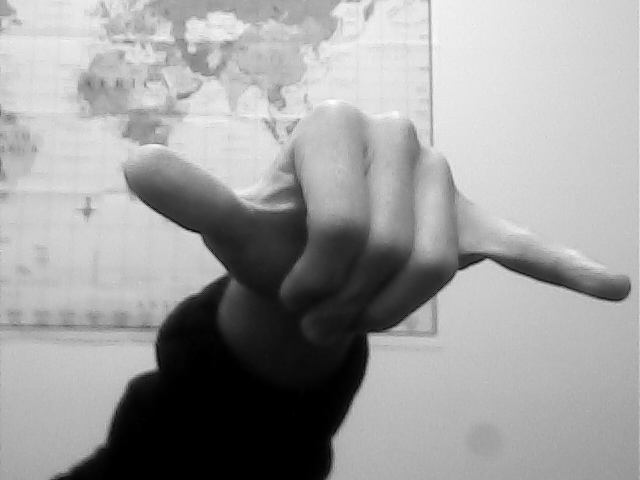aloha: (108, 98, 634, 358)
